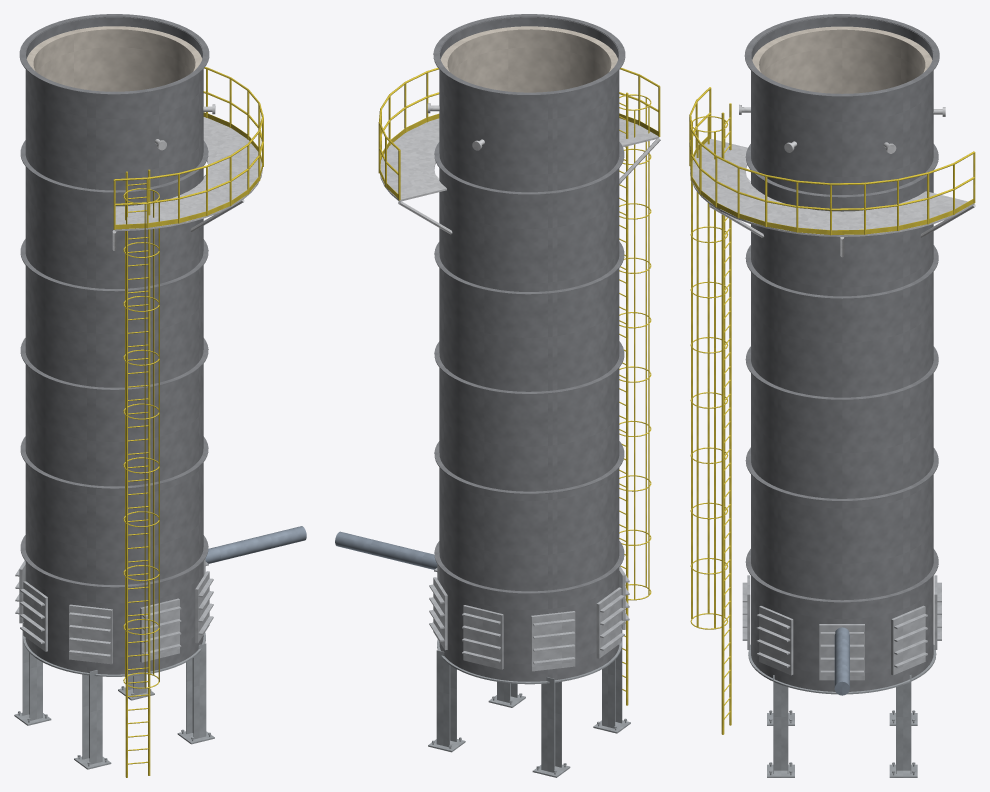
File: vapour-combustion-units.glb
The picture shows the model from 3 angles, left to right: view 1: azimuth 30°, elevation 25°; view 2: azimuth 150°, elevation 25°; view 3: azimuth 270°, elevation 25°; orthographic projection. The views are drawn at different scales.
Parts seen in each view (by area): view 1: CombustionShell, Ladder&Handrails, RefractoryLining(context), AirLouvres&Dampers, Legs&BaseRing, Platform&SamplingPorts, BurnerManifold(context); view 2: CombustionShell, RefractoryLining(context), Ladder&Handrails, AirLouvres&Dampers, Legs&BaseRing, Platform&SamplingPorts, BurnerManifold(context); view 3: CombustionShell, Ladder&Handrails, RefractoryLining(context), Platform&SamplingPorts, AirLouvres&Dampers, Legs&BaseRing, BurnerManifold(context).
Boxes of the visible parts, box(x1,y1,x2,y2) form: CombustionShell: box(19, 14, 209, 674); Ladder&Handrails: box(113, 67, 263, 777); RefractoryLining(context): box(26, 26, 202, 91); AirLouvres&Dampers: box(15, 559, 213, 664); Legs&BaseRing: box(14, 623, 214, 769); Platform&SamplingPorts: box(112, 104, 262, 250); BurnerManifold(context): box(205, 526, 306, 563); CombustionShell: box(433, 14, 625, 681); RefractoryLining(context): box(440, 26, 617, 92); Ladder&Handrails: box(378, 67, 660, 705); AirLouvres&Dampers: box(429, 565, 629, 671); Legs&BaseRing: box(428, 629, 630, 777); Platform&SamplingPorts: box(380, 103, 660, 234); BurnerManifold(context): box(335, 531, 437, 569); CombustionShell: box(744, 14, 939, 691); Ladder&Handrails: box(689, 87, 975, 734); RefractoryLining(context): box(752, 26, 932, 93); Platform&SamplingPorts: box(690, 104, 975, 257); AirLouvres&Dampers: box(742, 575, 941, 680); Legs&BaseRing: box(748, 644, 936, 777); BurnerManifold(context): box(834, 627, 849, 695).
Size of the model in its own units: 6.36 by 15.02 by 5.64.
Materials: 7 (7 with a texture image).
